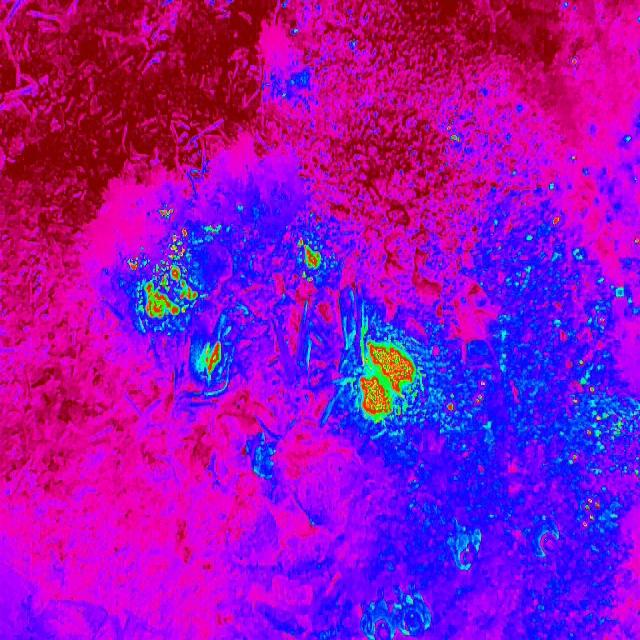fire: (528, 210, 640, 544), (348, 317, 421, 429), (128, 228, 196, 328), (443, 379, 492, 413), (294, 233, 326, 284), (198, 337, 225, 381), (156, 204, 179, 224), (443, 128, 464, 148)
